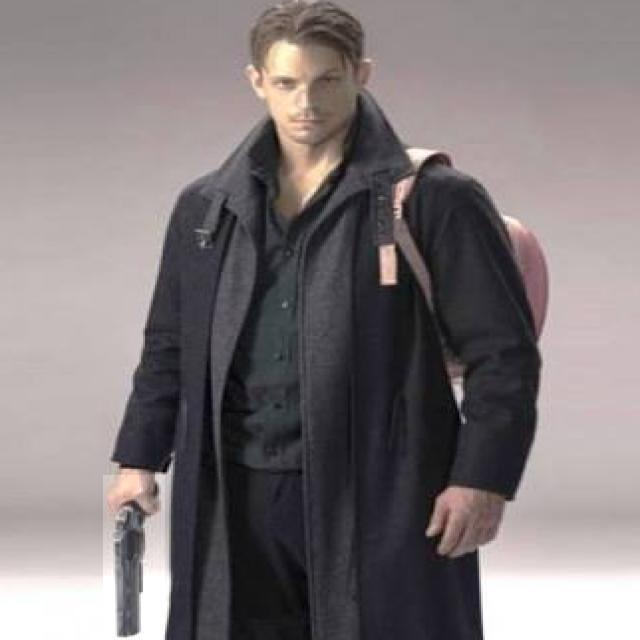handgun: (103, 475, 165, 640)
